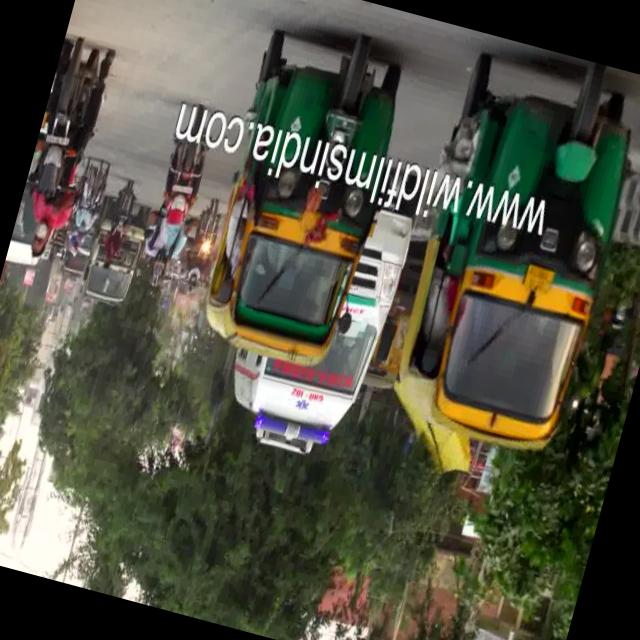ambulance: (298, 163, 440, 516), (198, 324, 376, 491)
